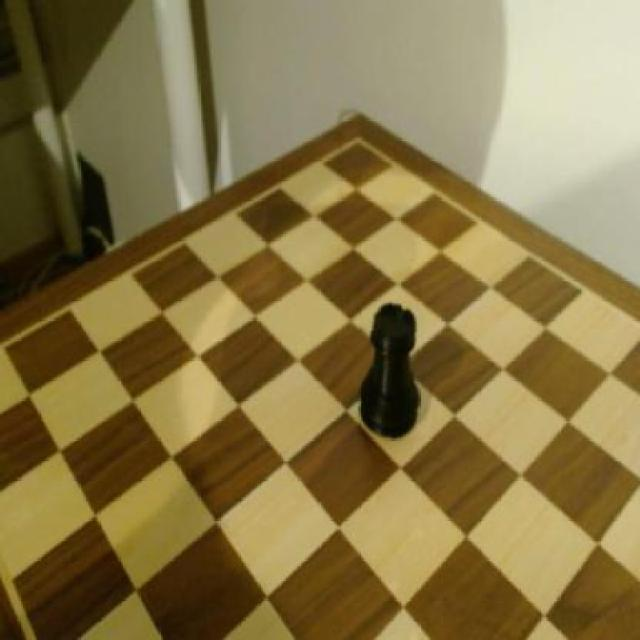black-queen: (358, 297, 424, 445)
